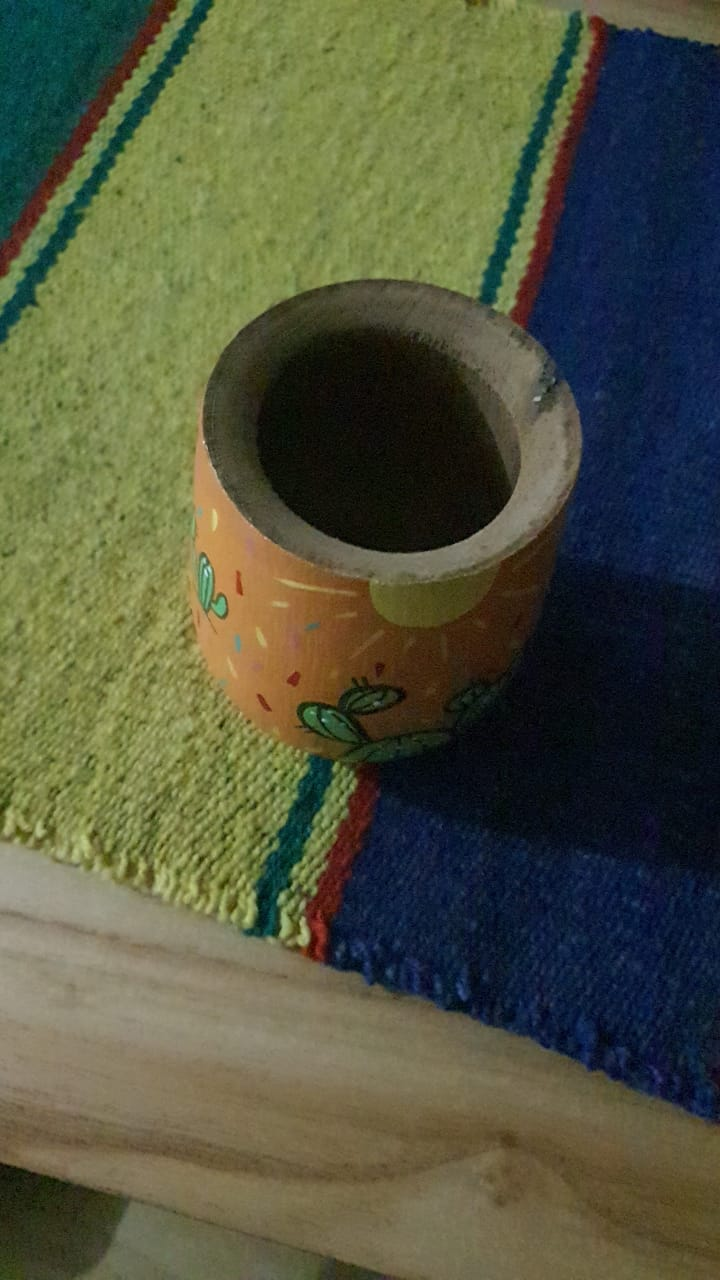madera: (169, 249, 599, 798)
mate: (166, 237, 591, 800)
